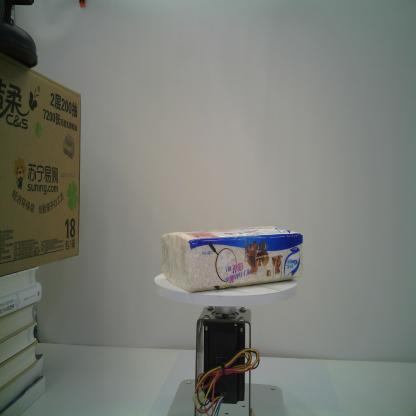Tissue: (160, 225, 306, 293)
